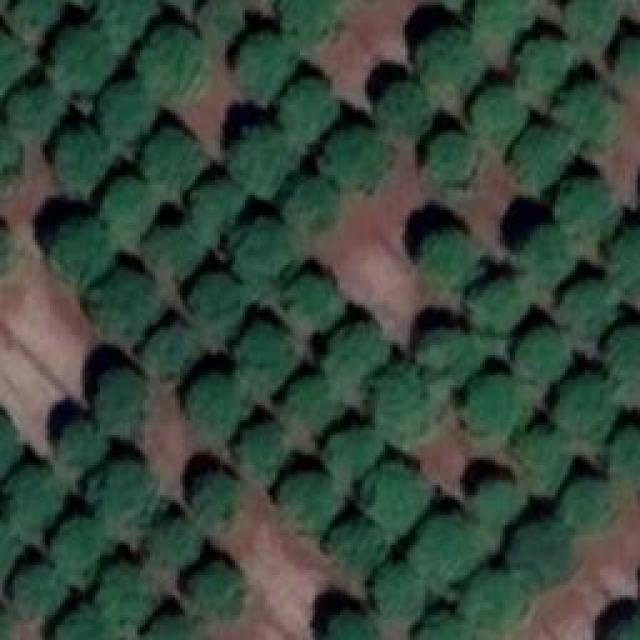Tree: (410, 518, 483, 601), (142, 28, 210, 101), (90, 270, 158, 343), (190, 273, 253, 346), (233, 128, 298, 198), (365, 463, 430, 533), (138, 308, 203, 378), (90, 463, 153, 533), (143, 128, 203, 201), (233, 325, 296, 393), (418, 30, 483, 95), (325, 325, 385, 395), (375, 368, 435, 438), (235, 220, 298, 285), (50, 220, 113, 283), (323, 128, 388, 188), (558, 380, 613, 450), (237, 35, 295, 100), (280, 80, 338, 145), (55, 520, 113, 585), (465, 378, 523, 441), (280, 475, 343, 533), (510, 525, 573, 583), (557, 88, 615, 151), (8, 470, 61, 538), (54, 30, 115, 88), (190, 375, 248, 435), (328, 523, 391, 576), (95, 370, 148, 433), (513, 128, 568, 188), (103, 178, 153, 243), (145, 222, 200, 280), (100, 565, 155, 623), (557, 183, 615, 238), (518, 430, 571, 490), (193, 185, 246, 243), (463, 575, 523, 625), (423, 233, 476, 288), (288, 275, 343, 328), (285, 380, 340, 433), (325, 430, 380, 483), (60, 130, 110, 188), (420, 332, 480, 380), (237, 425, 285, 483), (103, 83, 153, 138), (473, 90, 523, 145), (373, 565, 423, 620), (98, 0, 151, 50), (8, 88, 61, 138), (13, 565, 63, 618), (193, 563, 243, 616), (518, 328, 568, 381), (522, 230, 570, 285), (285, 180, 333, 233), (520, 40, 570, 90), (473, 283, 528, 328), (382, 85, 430, 135), (565, 285, 615, 333), (563, 480, 608, 533), (0, 32, 32, 105), (473, 480, 526, 523), (280, 0, 330, 45), (193, 473, 236, 523), (473, 0, 528, 38), (57, 605, 115, 640), (565, 0, 618, 38), (150, 523, 200, 563), (430, 135, 470, 183), (60, 423, 108, 463), (13, 0, 58, 40), (612, 230, 640, 293), (200, 0, 240, 42), (610, 430, 640, 485), (145, 615, 203, 640), (610, 330, 640, 378), (420, 615, 473, 640), (0, 515, 18, 585), (327, 615, 375, 640), (0, 420, 15, 493), (0, 127, 18, 185), (617, 42, 640, 75), (605, 620, 640, 640)
